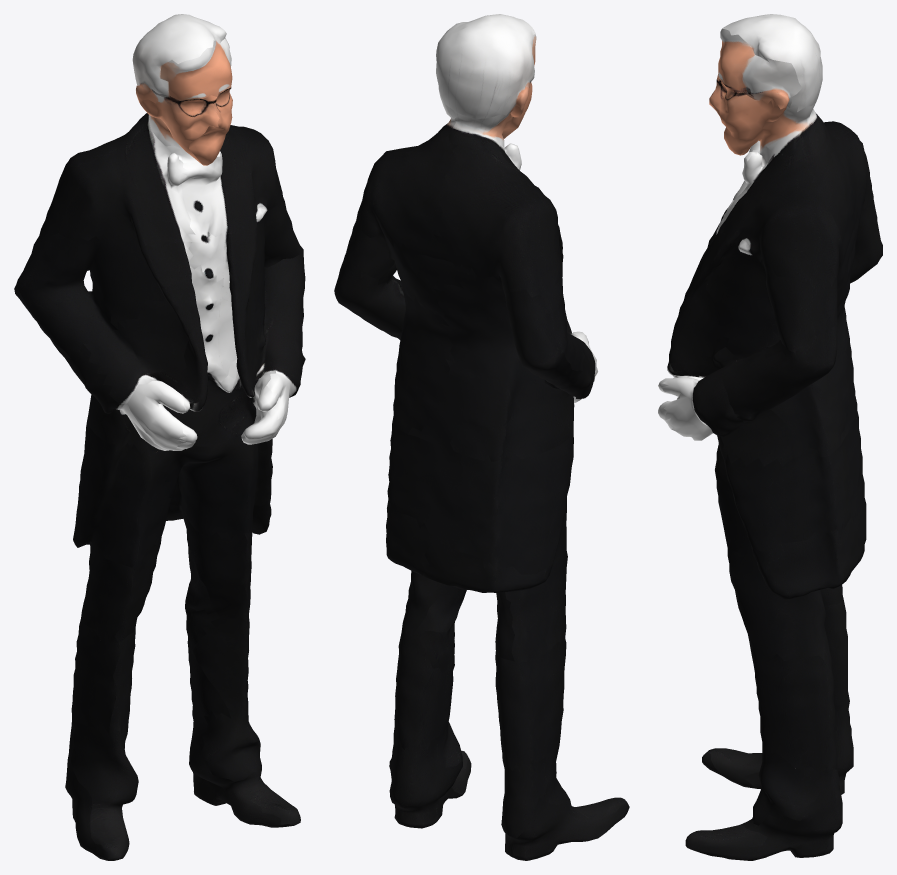
File: executor_butler_v2.glb
3 renders of one model, left to right at view 1: azimuth 30°, elevation 25°; view 2: azimuth 150°, elevation 25°; view 3: azimuth 270°, elevation 25°, orthographic.
Size of the model in its own units: 0.6301 by 1.91 by 0.4814.
Materials: 1 (1 with a texture image).
